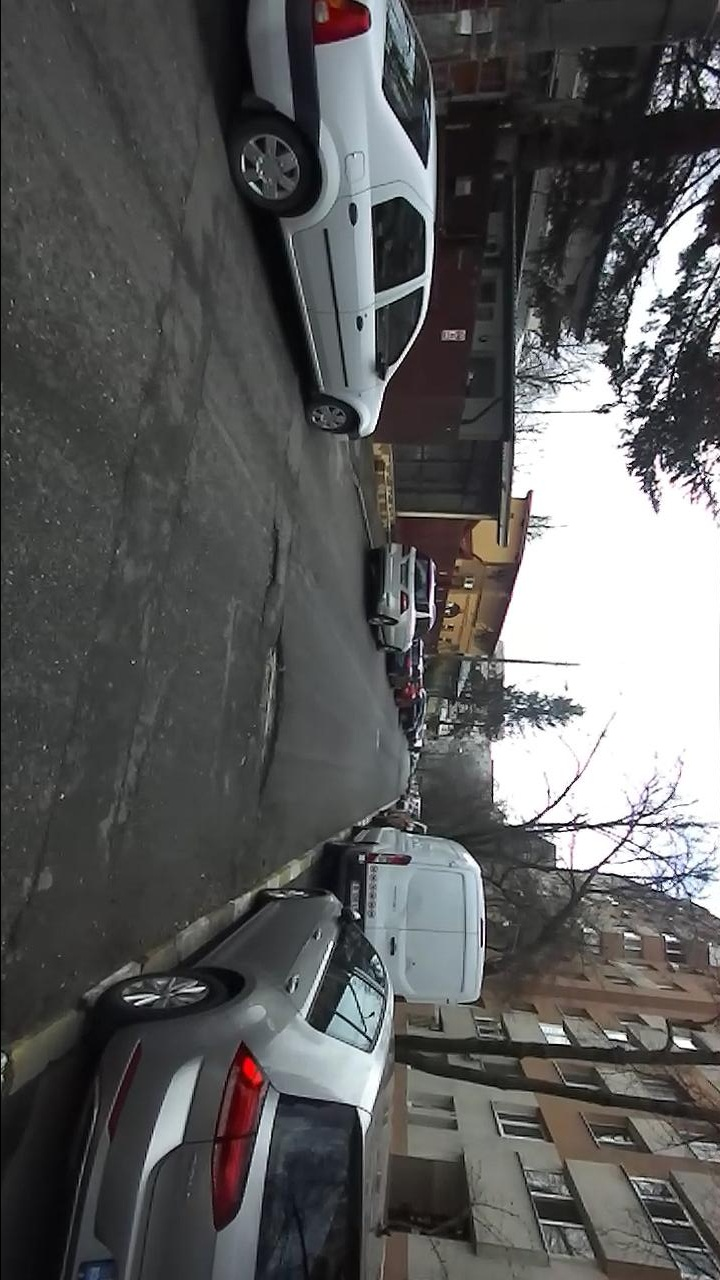pothole: (250, 627, 289, 801), (260, 514, 282, 599)
